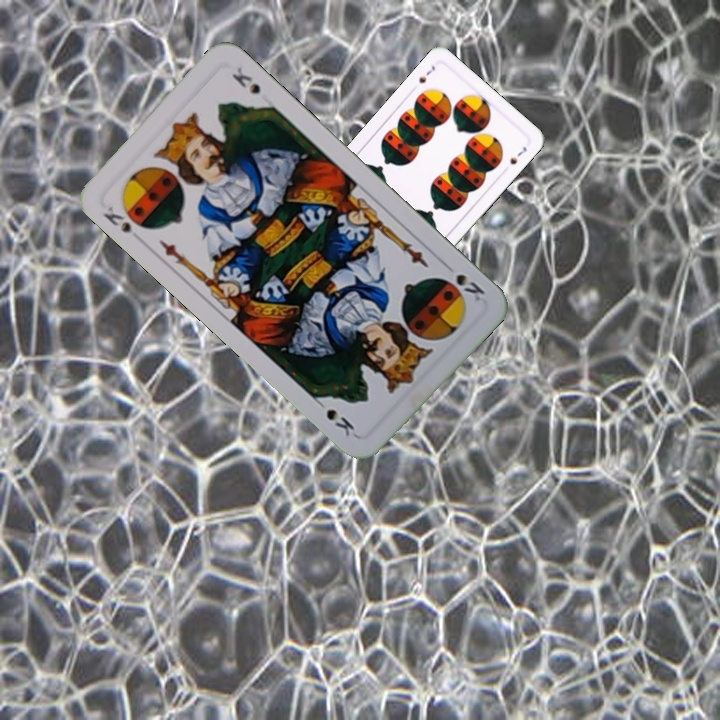S7: (415, 61, 438, 86)
SK: (439, 258, 488, 304), (99, 202, 134, 236)
